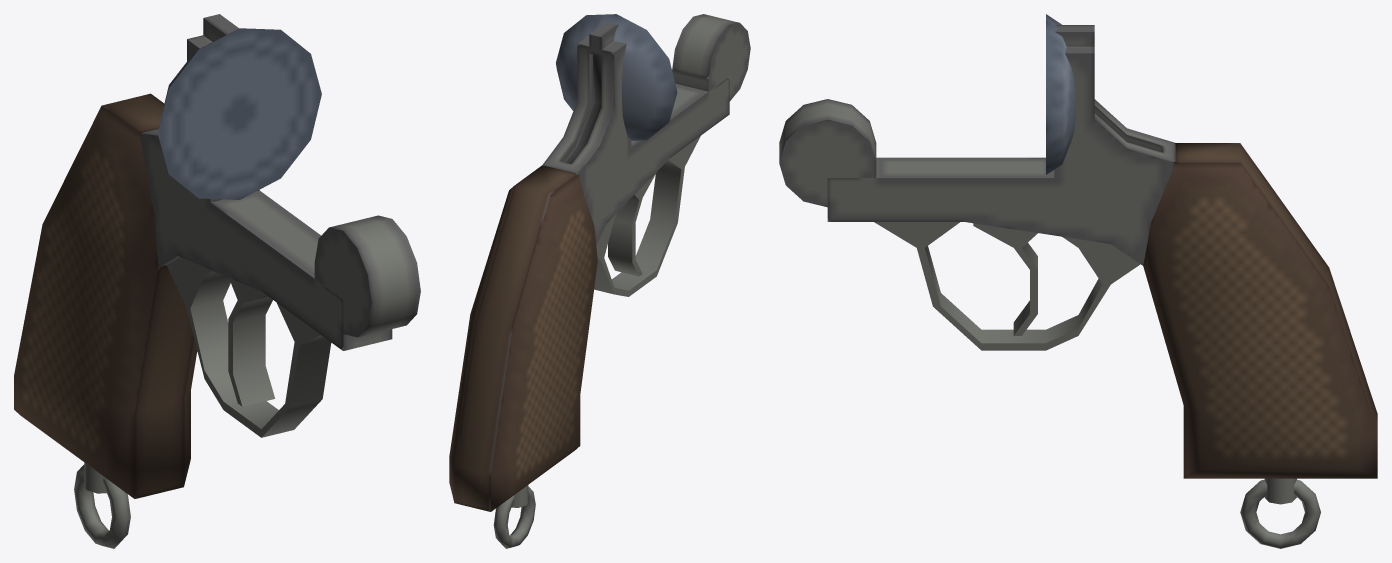
File: revolver_grip_atlas.obj
3 views of the same model, side by side, from view 1: azimuth 30°, elevation 25°; view 2: azimuth 150°, elevation 25°; view 3: azimuth 270°, elevation 25° (orthographic). The views are drawn at different scales.
Visible parts, largest first — view 1: Grip; view 2: Grip; view 3: Grip.
Boxes of the visible parts, x1=… form: Grip: x1=14, y1=14, x2=420, y2=548; Grip: x1=449, y1=14, x2=750, y2=548; Grip: x1=779, y1=14, x2=1377, y2=548.
Bounding box in the file's own units: 2.5 × 9 × 9.25.
